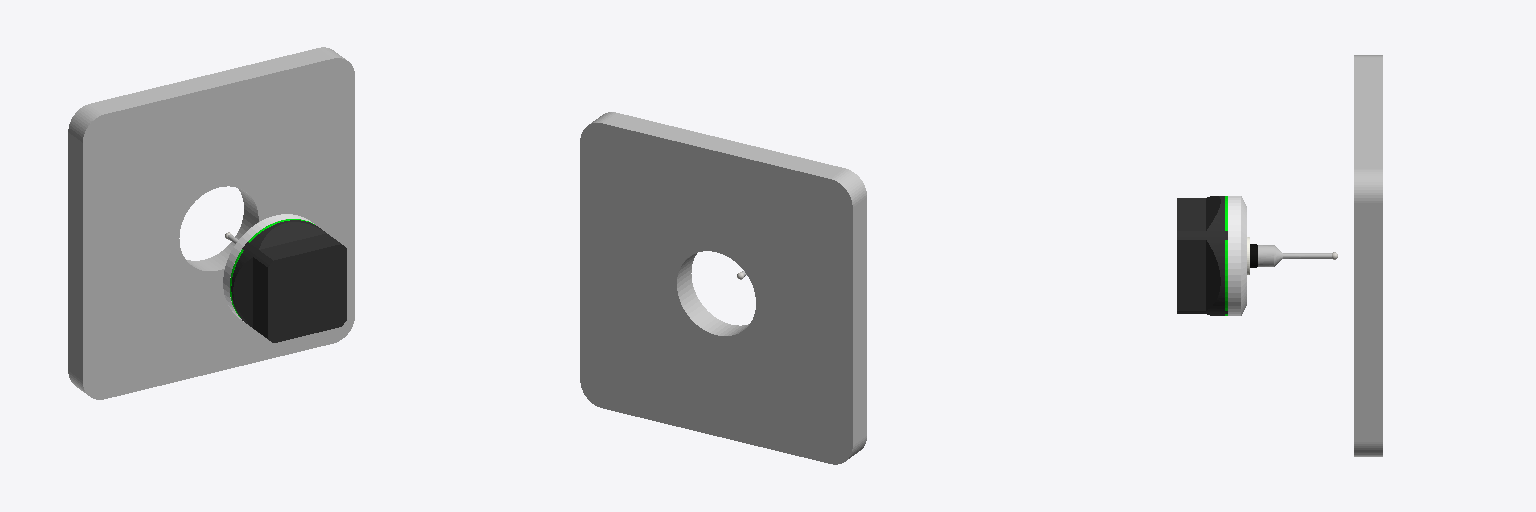
Rendered from 3dprobe.obj.
The picture shows the model from 3 angles: view 1: azimuth 30°, elevation 25°; view 2: azimuth 150°, elevation 25°; view 3: azimuth 270°, elevation 25°; orthographic projection.
Visible parts, largest first — view 1: mesh67, mesh137, mesh30, mesh128, mesh134, mesh149, mesh156, mesh61, mesh98, mesh146, mesh33, mesh35 (+5 smaller); view 2: mesh66, mesh136, mesh128, mesh134, mesh147, mesh60, mesh155, mesh5, mesh97, mesh146, mesh135; view 3: mesh132, mesh134, mesh31, mesh37, mesh26, mesh133, mesh35, mesh32, mesh25.
Part boxes in pixels (bbox=[...]): mesh67: bbox=[92, 77, 345, 380]; mesh137: bbox=[83, 58, 354, 399]; mesh30: bbox=[268, 244, 346, 342]; mesh128: bbox=[68, 132, 82, 380]; mesh134: bbox=[91, 48, 332, 113]; mesh149: bbox=[170, 176, 267, 281]; mesh156: bbox=[301, 68, 345, 117]; mesh61: bbox=[92, 340, 136, 389]; mesh98: bbox=[92, 117, 136, 173]; mesh146: bbox=[187, 188, 258, 270]; mesh33: bbox=[253, 257, 267, 338]; mesh35: bbox=[260, 233, 340, 260]; mesh66: bbox=[590, 141, 842, 445]; mesh136: bbox=[580, 123, 852, 464]; mesh128: bbox=[853, 197, 866, 445]; mesh134: bbox=[603, 113, 844, 178]; mesh147: bbox=[667, 241, 765, 345]; mesh60: bbox=[799, 405, 842, 453]; mesh155: bbox=[590, 133, 633, 182]; mesh5: bbox=[590, 349, 633, 405]; mesh97: bbox=[799, 181, 842, 237]; mesh146: bbox=[677, 253, 748, 335]; mesh135: bbox=[831, 168, 866, 206]; mesh132: bbox=[1354, 203, 1382, 441]; mesh134: bbox=[1354, 58, 1382, 168]; mesh31: bbox=[1177, 240, 1205, 310]; mesh37: bbox=[1177, 196, 1227, 315]; mesh26: bbox=[1228, 196, 1240, 315]; mesh133: bbox=[1354, 169, 1382, 202]; mesh35: bbox=[1177, 198, 1205, 230]; mesh32: bbox=[1206, 240, 1220, 310]; mesh25: bbox=[1241, 196, 1246, 315].
Size of the model in its own units: 0.086 by 0.086 by 0.0564.